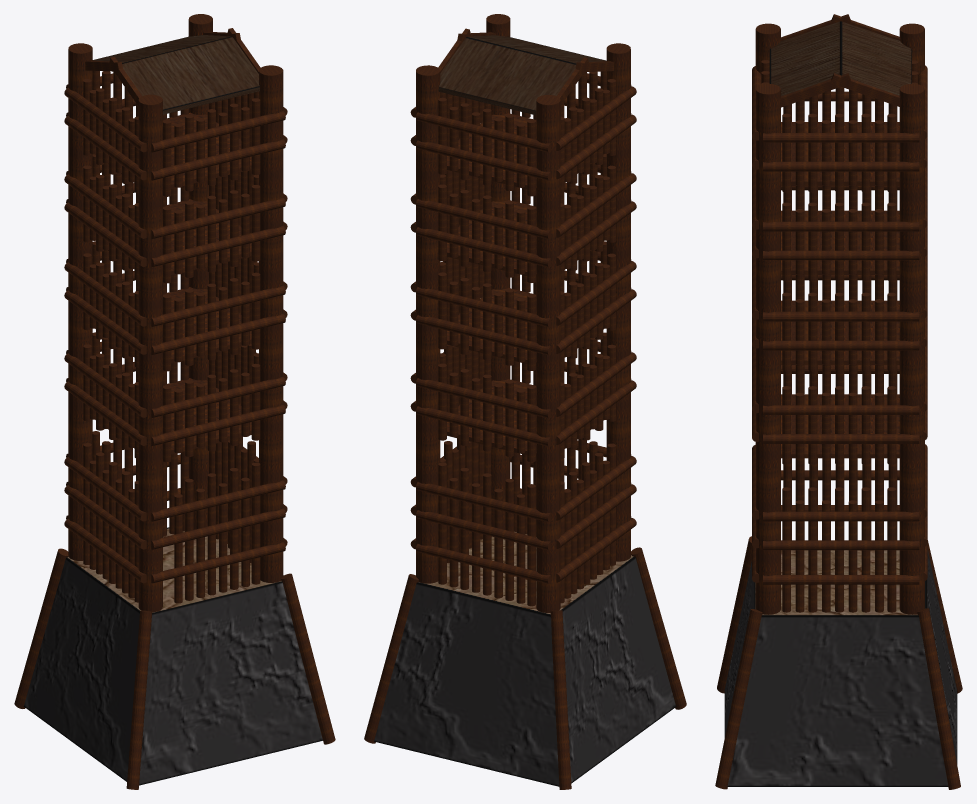
The model's file is Maori_DefenseTower.dae.
The picture shows the model from 3 angles, left to right: view 1: azimuth 30°, elevation 25°; view 2: azimuth 150°, elevation 25°; view 3: azimuth 270°, elevation 25°; orthographic projection. The views are drawn at different scales.
Visible parts, largest first — view 1: Cube.163; view 2: Cube.163; view 3: Cube.163.
Boxes of the visible parts, box(x1,y1,x2,y2) form: Cube.163: box(14, 14, 335, 789); Cube.163: box(364, 14, 686, 789); Cube.163: box(715, 14, 962, 789).
Size of the model in its own units: 7.97 by 8 by 24.86.
Materials: 1 (1 with a texture image).
